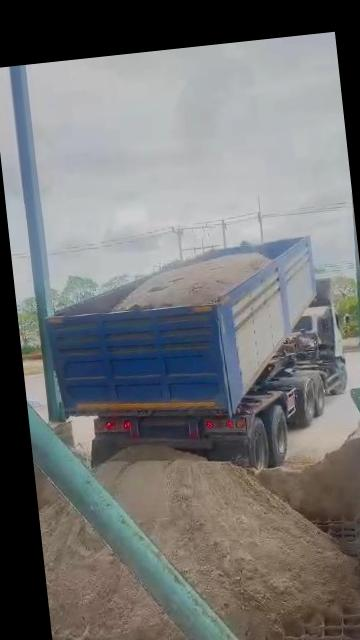sand: (97, 448, 358, 640), (39, 500, 175, 640), (256, 427, 360, 523), (115, 253, 270, 309), (34, 465, 60, 511)
